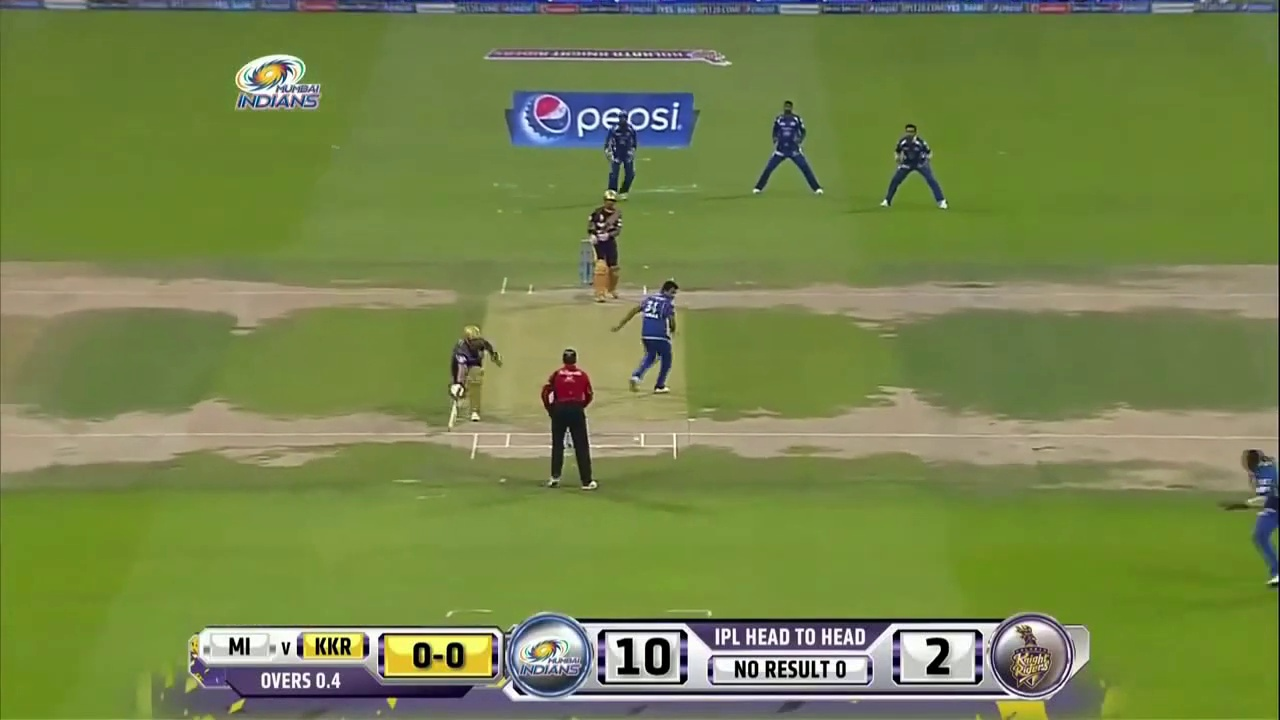bat: (449, 401, 459, 430)
